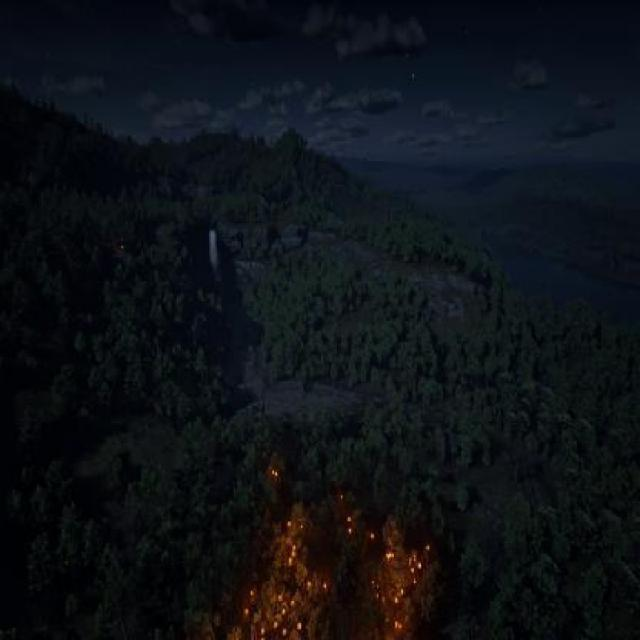Fire: (180, 454, 440, 640)
